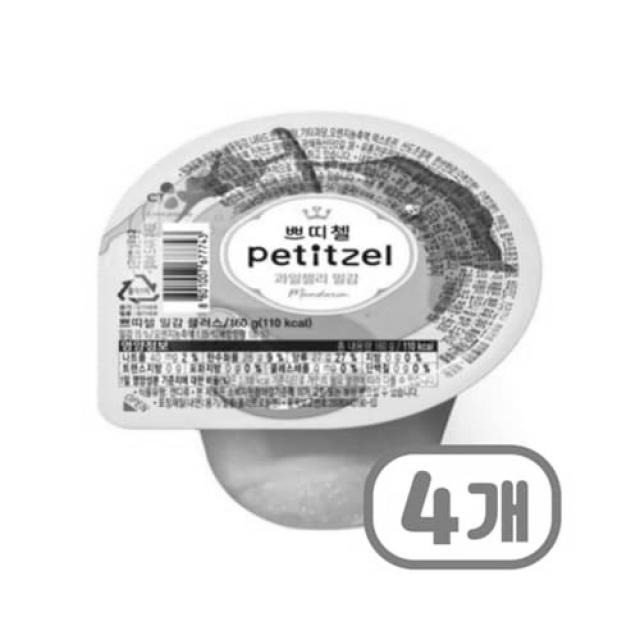Nutrition Label: (111, 334, 453, 409)
